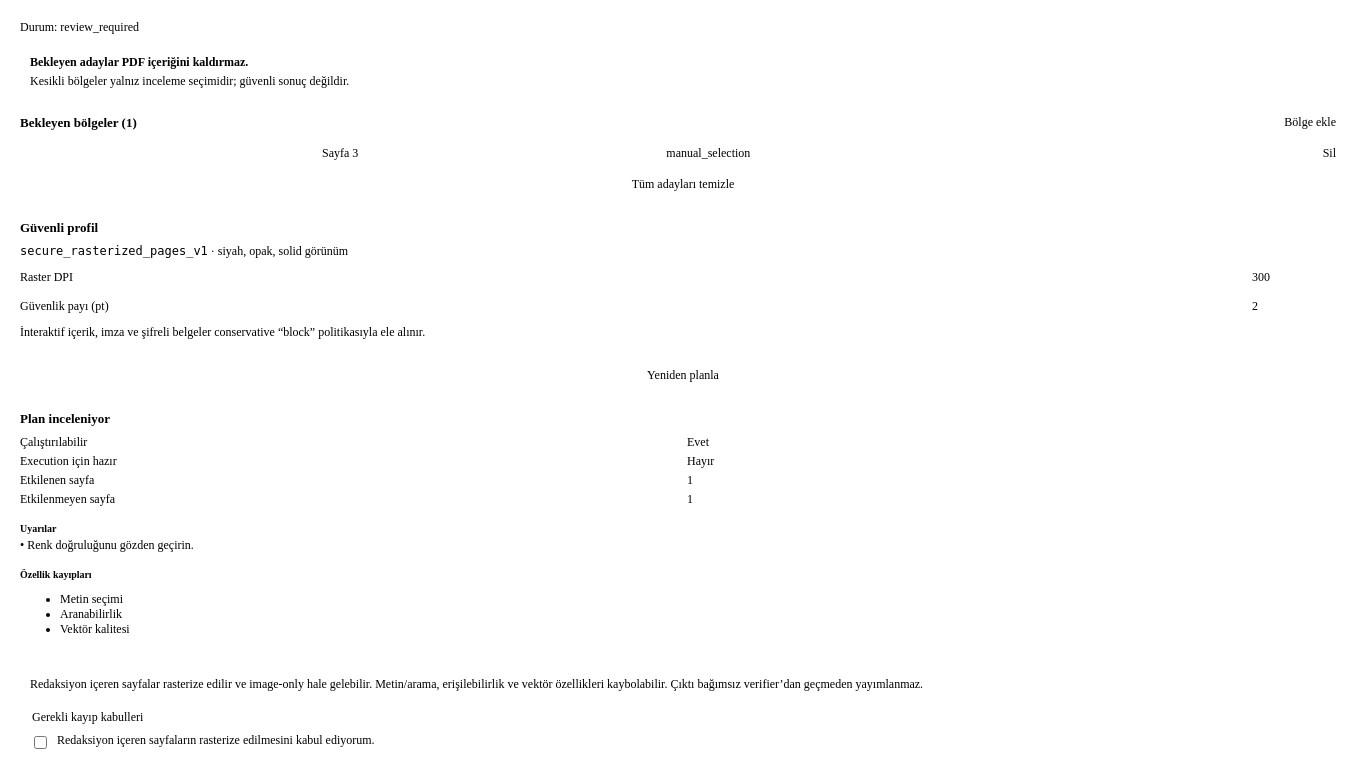
it: SecureRedactionPanel › keeps all backend-required acknowledgement controls visible while the authoritative plan is stale
The image size is (1366, 761).
Click the 1st checkbox.
click(40, 742)  # box [34,736,47,749]
(page scrolled)
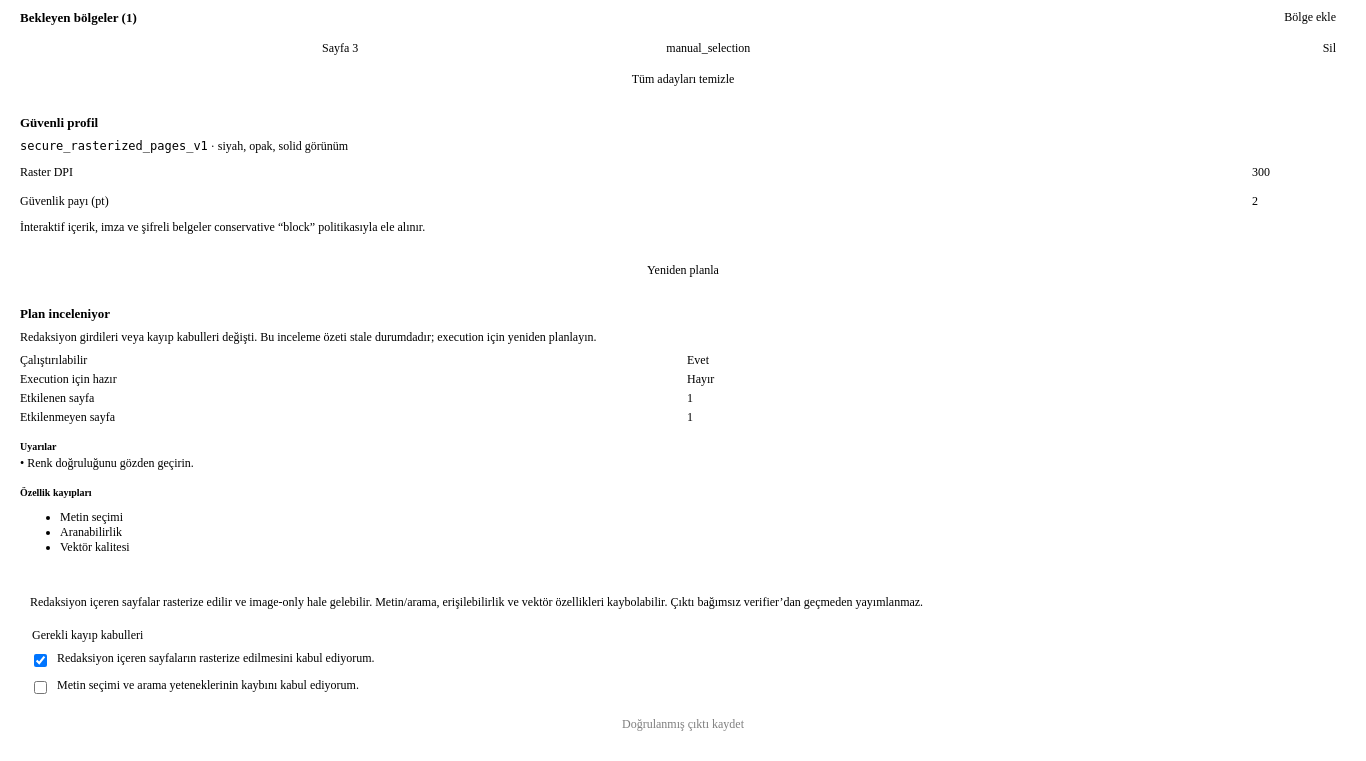
Expected: the number of checkboxes is 2, [34,654,47,667]; [34,681,47,694]
Now the text "inceleme özeti stale" is shown, box [20,330,596,344]
